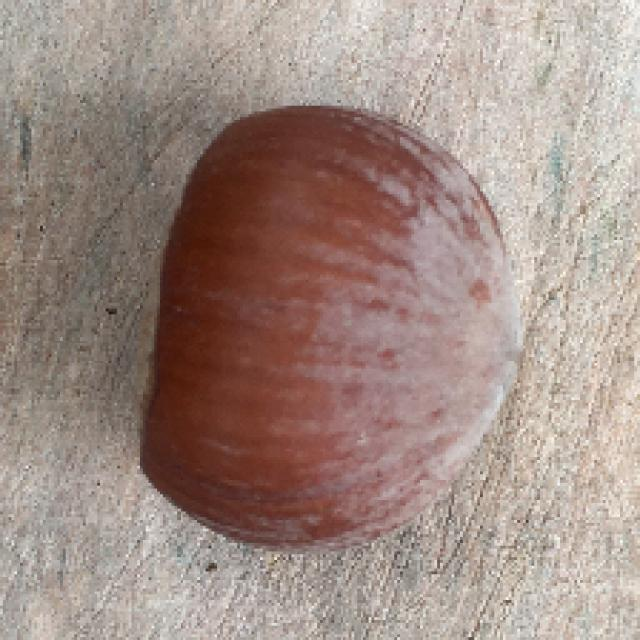qualityHazelnut: (119, 80, 535, 564)
